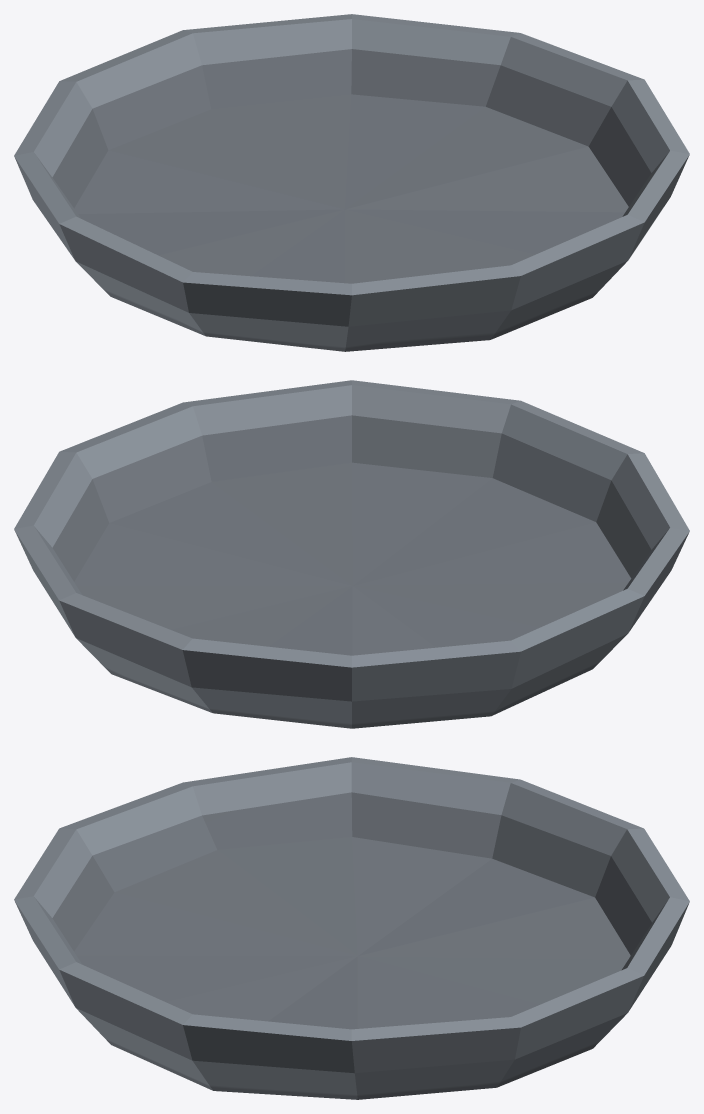
The model's file is SM_Prop_Plate_Large_03.glb.
3 views of the same model, one above another, from view 1: azimuth 30°, elevation 25°; view 2: azimuth 150°, elevation 25°; view 3: azimuth 270°, elevation 25° (orthographic).
Parts seen in each view (by area): view 1: SM_Prop_Plate_Large_03; view 2: SM_Prop_Plate_Large_03; view 3: SM_Prop_Plate_Large_03.
Boxes of the visible parts, left/top/right/bottom form: SM_Prop_Plate_Large_03: left=14, top=14, right=689, bottom=351; SM_Prop_Plate_Large_03: left=14, top=380, right=689, bottom=728; SM_Prop_Plate_Large_03: left=14, top=757, right=689, bottom=1099.
Bounding box in the file's own units: 1.3 × 0.2025 × 1.3.
1 material, 1 textured.
